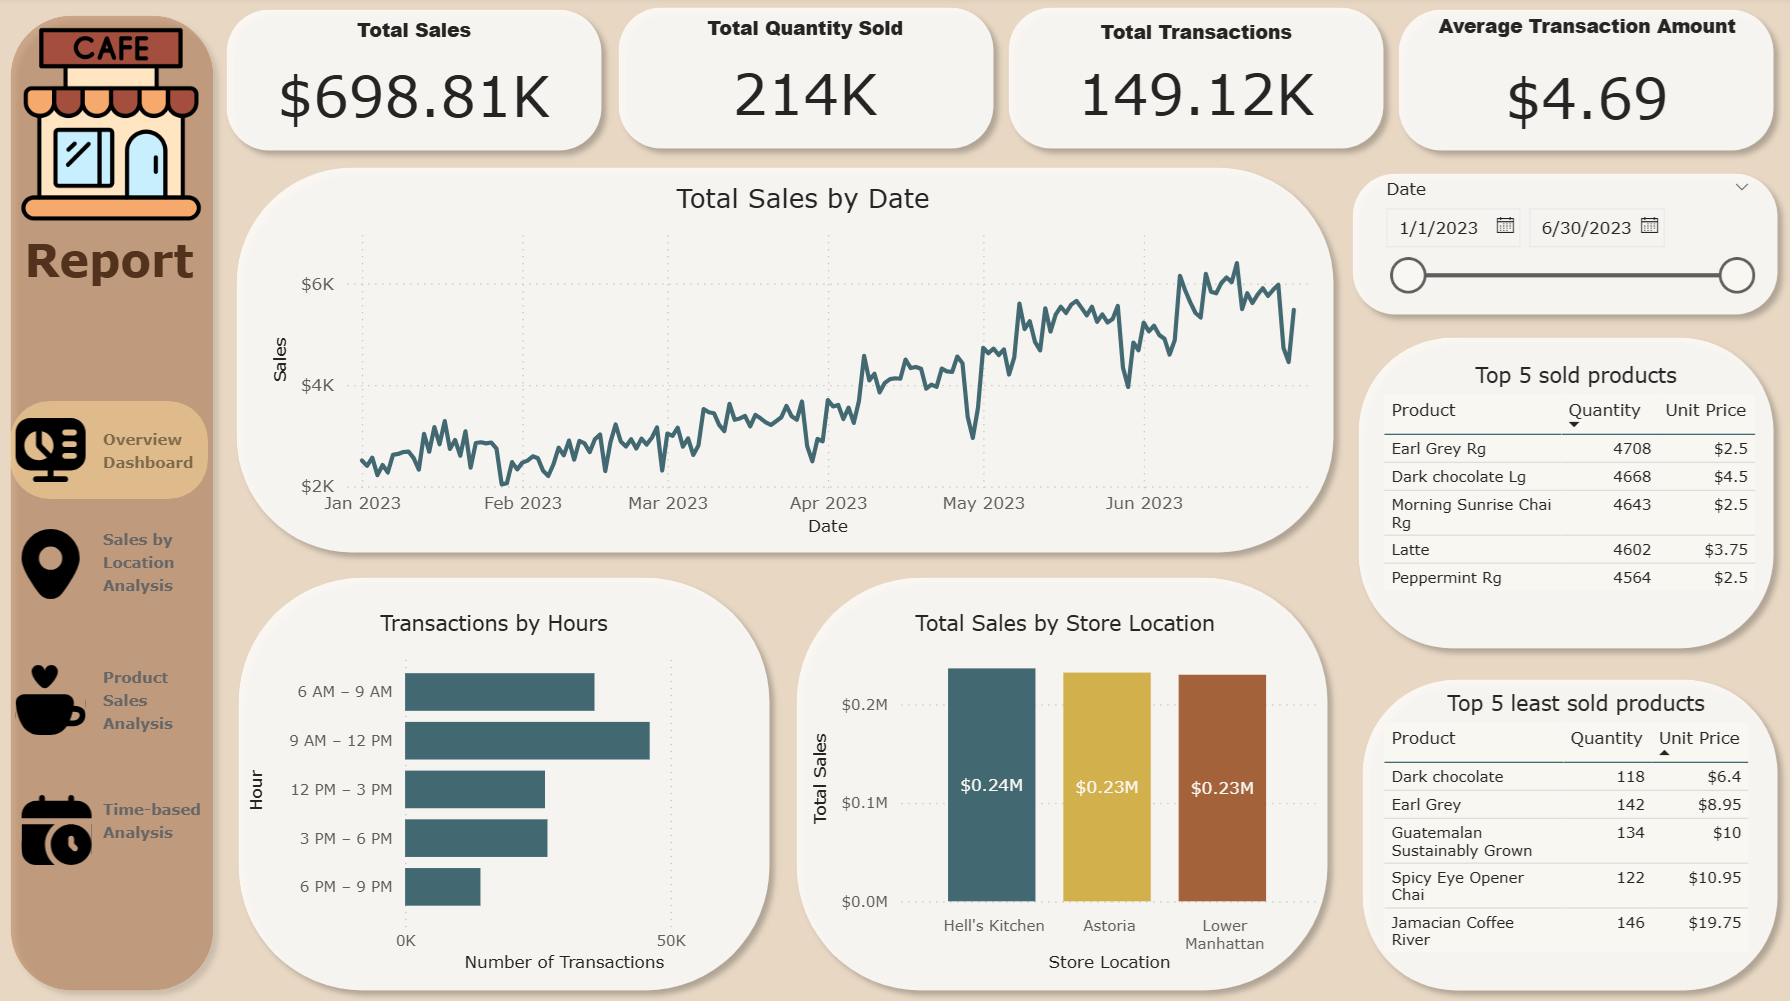

What the dashboard file says about the page in this screenshot:
{"tool":"powerbi","page":{"name":"Overview Dashboard","canvas":[1280,720],"ordinal":1},"visuals":[{"type":"shape","box":[0,5.7,162.9,714.3],"z":0,"group":"g1"},{"type":"shape","box":[962.9,235.7,314.3,240],"z":0},{"type":"textbox","box":[70,303.3,84.3,47.1],"z":500,"group":"g1"},{"type":"shape","box":[160.7,113.6,801.4,292.9],"z":1000},{"type":"textbox","box":[70,374.3,80,84.3],"z":1750,"group":"g1"},{"type":"shape","box":[992.1,0.7,285.7,118.6],"z":2000},{"type":"shape","box":[712.1,0,285.7,118.6],"z":3000},{"type":"textbox","box":[70,473.3,84.3,67.1],"z":3250,"group":"g1"},{"type":"shape","box":[434.3,0,285.7,118.6],"z":4000},{"type":"shape","box":[154.3,1.4,285.7,118.6],"z":5000},{"type":"textbox","box":[70,567.1,88.6,55.7],"z":5000,"group":"g1"},{"type":"actionButton","box":[8.6,290.4,141.4,70],"z":5500,"group":"g1"},{"type":"actionButton","box":[8.6,371.8,141.4,70],"z":6000,"group":"g1"},{"type":"shape","box":[561.4,407.1,397.1,312.9],"z":6000},{"type":"actionButton","box":[8.6,469,141.4,70],"z":6500,"group":"g1"},{"type":"shape","box":[162.9,407.1,397.1,312.9],"z":7000},{"type":"actionButton","box":[12.9,561.8,141.4,70],"z":7000,"group":"g1"},{"type":"shape","box":[965.7,480,314.3,240],"z":8000},{"type":"shape","box":[958.6,118.6,321.4,118.6],"z":9000},{"type":"card","title":"Total Sales","fields":{"Values":["Sum(Transactions.total_sales)"]},"box":[187.1,15.7,220,92.9],"z":10000},{"type":"card","title":"Total Transactions","fields":{"Values":["CountNonNull(Transactions.transaction_id)"]},"box":[752.1,17.1,205.7,87.1],"z":11000},{"type":"lineChart","title":"Total Sales by Date","fields":{"Y":["Sum(Transactions.total_sales)"],"Category":["Transactions.transaction_date.Variation.Date Hierarchy.Year"]},"box":[190.7,133.6,767.1,258.6],"z":12000},{"type":"card","title":"Total Quantity Sold","fields":{"Values":["Sum(Transactions.transaction_qty)"]},"box":[485.7,14.3,181.4,92.9],"z":13000},{"type":"columnChart","title":"Total Sales by Store Location","fields":{"Category":["Transactions.store_location"],"Y":["Sum(Transactions.total_sales)"],"Series":["Transactions.store_location"]},"box":[577.1,440,370,262.9],"z":14000},{"type":"clusteredBarChart","title":"Transactions by Hours","fields":{"Y":["Count(Transactions.transaction_id)"],"Category":["Transactions.hour_block"]},"box":[174.3,440,360,262.9],"z":15000},{"type":"tableEx","title":"Top 5 sold products","fields":{"Values":["Transactions.product_detail","Sum(Transactions.transaction_qty)","Transactions.unit_price"]},"box":[984.3,262.9,285.7,195.7],"z":16000},{"type":"tableEx","title":"Top 5 least sold products","fields":{"Values":["Transactions.product_detail","Sum(Transactions.transaction_qty)","Transactions.unit_price"]},"box":[984.3,497.1,285.7,198.6],"z":17000},{"type":"slicer","fields":{"Values":["Transactions.transaction_date"]},"box":[978.6,125.7,284.3,105.7],"z":18000},{"type":"card","title":"Average Transaction Amount","fields":{"Values":["Transactions.Średnia Wartość Transakcji"]},"box":[1020.7,12.1,230,101.4],"z":19000},{"type":"group","id":"g1","title":"Group 1","box":[0,5.7,162.9,714.3],"z":20000},{"type":"image","box":[5.7,17.1,150,150],"z":21000},{"type":"textbox","box":[8.6,164.3,141.4,67.1],"z":22000}]}

Visuals, with their boxes in screenshot pixels (x1, y1, x2, y2), scaled from the page's 1280x720 canvas onto the 1790x1001 screenshot:
shape: bbox=[0, 8, 228, 1000]
shape: bbox=[1347, 328, 1786, 661]
textbox: bbox=[98, 422, 216, 487]
shape: bbox=[225, 158, 1345, 565]
textbox: bbox=[98, 520, 210, 638]
shape: bbox=[1387, 1, 1787, 166]
shape: bbox=[996, 0, 1395, 165]
textbox: bbox=[98, 658, 216, 751]
shape: bbox=[607, 0, 1007, 165]
shape: bbox=[216, 2, 615, 167]
textbox: bbox=[98, 788, 222, 866]
actionButton: bbox=[12, 404, 210, 501]
actionButton: bbox=[12, 517, 210, 614]
shape: bbox=[785, 566, 1340, 1000]
actionButton: bbox=[12, 652, 210, 749]
shape: bbox=[228, 566, 783, 1000]
actionButton: bbox=[18, 781, 216, 878]
shape: bbox=[1350, 667, 1789, 1000]
shape: bbox=[1341, 165, 1789, 330]
"Total Sales" card: bbox=[262, 22, 569, 151]
"Total Transactions" card: bbox=[1052, 24, 1339, 145]
"Total Sales by Date" lineChart: bbox=[267, 186, 1339, 545]
"Total Quantity Sold" card: bbox=[679, 20, 933, 149]
"Total Sales by Store Location" columnChart: bbox=[807, 612, 1324, 977]
"Transactions by Hours" clusteredBarChart: bbox=[244, 612, 747, 977]
"Top 5 sold products" tableEx: bbox=[1376, 366, 1776, 638]
"Top 5 least sold products" tableEx: bbox=[1376, 691, 1776, 967]
slicer - Transactions.transaction_date: bbox=[1369, 175, 1766, 322]
"Average Transaction Amount" card: bbox=[1427, 17, 1749, 158]
"Group 1" group: bbox=[0, 8, 228, 1000]
image: bbox=[8, 24, 218, 232]
textbox: bbox=[12, 228, 210, 322]
